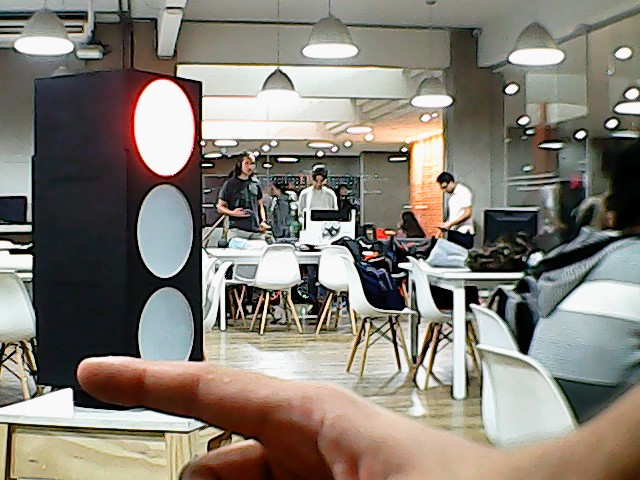vermelho: (19, 63, 220, 393)
